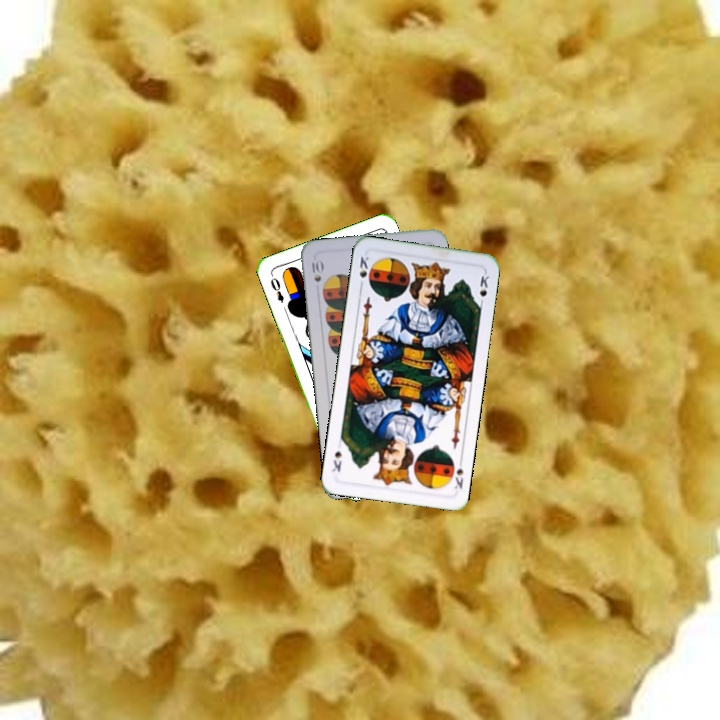EO: (266, 271, 287, 305)
S10: (308, 255, 325, 285)
SK: (355, 252, 374, 291), (450, 454, 466, 491)
